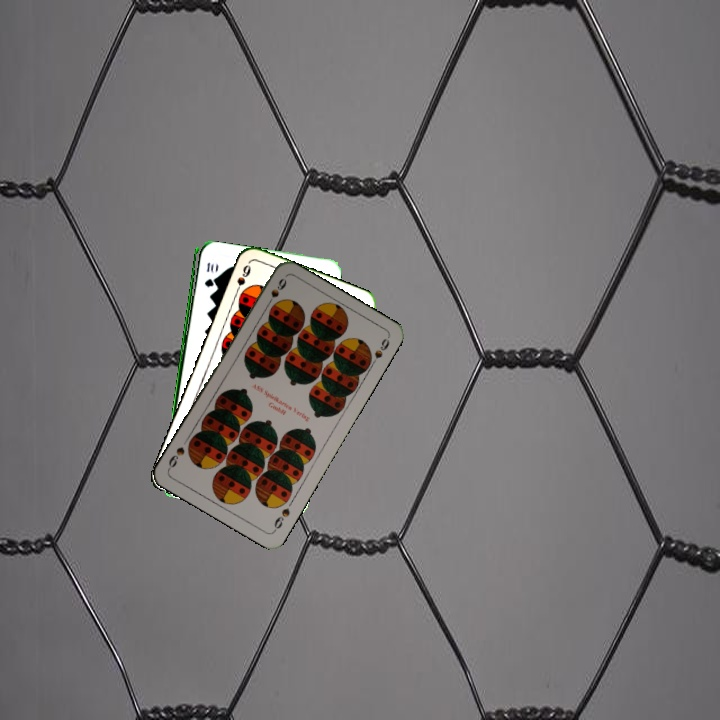G10: (200, 258, 216, 290)
S9: (262, 274, 289, 311), (230, 261, 253, 300), (270, 504, 293, 534)
